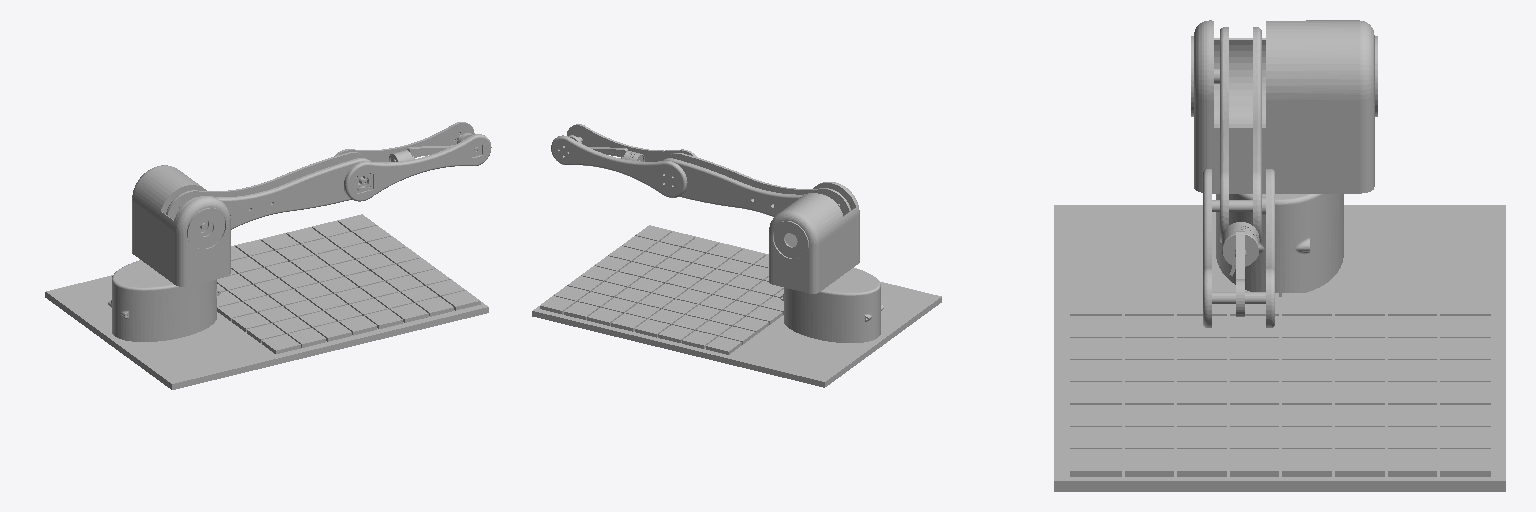
The robot description file, URDF, robot "chess_rob":
<?xml version="1.0" encoding="utf-8" ?>
<robot name="chess_rob">
    <gazebo>
        <plugin name="gazebo_ros_control" filename="libgazebo_ros_control.so">
            <robotNamespace>/chess_rob</robotNamespace>
            <robotSimType>gazebo_ros_control/DefaultRobotHWSim</robotSimType>
            <legacyModeNS>true</legacyModeNS>
        </plugin>
    </gazebo>
    <link name="world" />
    <joint name="joint_w" type="fixed">
        <parent link="world" />
        <child link="base_link" />
    </joint>
    <link name="base_link">
        <inertial>
            <origin xyz="-0.015217243894891 1.33674799181194E-08 0.0349095660299761" rpy="0 0 0" />
            <mass value="0.242925533930054" />
            <inertia ixx="0.000184514361836117" ixy="-6.56879521762788E-08" ixz="-8.40471453675092E-06" iyy="0.000308044865573332" iyz="7.17644794224948E-12" izz="0.000348230702382964" />
        </inertial>
        <visual>
            <origin xyz="0 0 0" rpy="0 0 0" />
            <geometry>
                <mesh filename="package://chess_rob/meshes/visual/base_link.STL" />
            </geometry>
            <material name="">
                <color rgba="0.752941176470588 0.752941176470588 0.752941176470588 1" />
            </material>
        </visual>
        <collision>
            <origin xyz="0 0 0" rpy="0 0 0" />
            <geometry>
                <mesh filename="package://chess_rob/meshes/collision/base_link.STL" />
            </geometry>
        </collision>
    </link>
    <link name="link_1">
        <inertial>
            <origin xyz="-0.000606604801845462 0.000544256660138659 0.0309541889481369" rpy="0 0 0" />
            <mass value="0.165452367760892" />
            <inertia ixx="0.000319019027558372" ixy="-2.56730533017839E-06" ixz="8.60884430980357E-07" iyy="0.000174178835891692" iyz="-7.48100720278735E-06" izz="0.000334430345588851" />
        </inertial>
        <visual>
            <origin xyz="0 0 0" rpy="0 0 0" />
            <geometry>
                <mesh filename="package://chess_rob/meshes/visual/link_1.STL" />
            </geometry>
            <material name="">
                <color rgba="0.752941176470588 0.752941176470588 0.752941176470588 1" />
            </material>
        </visual>
        <collision>
            <origin xyz="0 0 0" rpy="0 0 0" />
            <geometry>
                <mesh filename="package://chess_rob/meshes/collision/link_1.STL" />
            </geometry>
        </collision>
    </link>
    <joint name="joint_1" type="continuous">
        <origin xyz="0 0 0.079" rpy="0 0 0" />
        <parent link="base_link" />
        <child link="link_1" />
        <axis xyz="0 0 -1" />
    </joint>
    <link name="link_2">
        <inertial>
            <origin xyz="-1.69017261852922E-08 -0.000945344060170763 0.103491004754061" rpy="0 0 0" />
            <mass value="0.110239166528901" />
            <inertia ixx="0.000645214897942635" ixy="-2.1691055188587E-12" ixz="-2.08689181194865E-10" iyy="0.000665314861067016" iyz="-1.28048946872329E-06" izz="2.08661229293727E-05" />
        </inertial>
        <visual>
            <origin xyz="0 0 0" rpy="0 0 0" />
            <geometry>
                <mesh filename="package://chess_rob/meshes/visual/link_2.STL" />
            </geometry>
            <material name="">
                <color rgba="0.752941176470588 0.752941176470588 0.752941176470588 1" />
            </material>
        </visual>
        <collision>
            <origin xyz="0 0 0" rpy="0 0 0" />
            <geometry>
                <mesh filename="package://chess_rob/meshes/collision/link_2.STL" />
            </geometry>
        </collision>
    </link>
    <joint name="joint_2" type="continuous">
        <origin xyz="0 -0.026124 0.068999" rpy="0 1.54 0" />
        <parent link="link_1" />
        <child link="link_2" />
        <axis xyz="0 1 0" />
    </joint>
    <link name="link_3">
        <inertial>
            <origin xyz="-3.69654537563102E-07 -0.00028797436439582 0.0692637508407093" rpy="0 0 0" />
            <mass value="0.0586792348761411" />
            <inertia ixx="0.000199414999682554" ixy="3.30496081031023E-10" ixz="1.64091696957926E-12" iyy="0.00020384558759879" iyz="4.75321439278164E-08" izz="6.74770658461029E-06" />
        </inertial>
        <visual>
            <origin xyz="0 0 0" rpy="0 0 0" />
            <geometry>
                <mesh filename="package://chess_rob/meshes/visual/link_3.STL" />
            </geometry>
            <material name="">
                <color rgba="0.752941176470588 0.752941176470588 0.752941176470588 1" />
            </material>
        </visual>
        <collision>
            <origin xyz="0 0 0" rpy="0 0 0" />
            <geometry>
                <mesh filename="package://chess_rob/meshes/collision/link_3.STL" />
            </geometry>
        </collision>
    </link>
    <joint name="joint_3" type="continuous">
        <origin xyz="0 0 0.2195" rpy="0 0 0" />
        <parent link="link_2" />
        <child link="link_3" />
        <axis xyz="0 -1 0" />
    </joint>
    <link name="link_4">
        <inertial>
            <origin xyz="0.000132107659803454 -1.88106667816882E-05 -0.0858466150623816" rpy="0 0 0" />
            <mass value="0.0782399819940314" />
            <inertia ixx="9.53988185360244E-06" ixy="7.41120076252732E-09" ixz="-5.20274626001282E-08" iyy="9.8647213536698E-06" iyz="9.46197536367817E-09" izz="6.12772552030606E-06" />
        </inertial>
        <visual>
            <origin xyz="0 0 0" rpy="0 0 0" />
            <geometry>
                <mesh filename="package://chess_rob/meshes/visual/link_4.STL" />
            </geometry>
            <material name="">
                <color rgba="0.752941176470588 0.752941176470588 0.752941176470588 1" />
            </material>
        </visual>
        <collision>
            <origin xyz="0 0 0" rpy="0 0 0" />
            <geometry>
                <mesh filename="package://chess_rob/meshes/collision/link_4.STL" />
            </geometry>
        </collision>
    </link>
    <joint name="joint_4" type="continuous">
        <origin xyz="0 0 0.155" rpy="0 0 0" />
        <parent link="link_3" />
        <child link="link_4" />
        <axis xyz="0 -1 0" />
    </joint>
    <transmission name="T1">
        <type>transmission_interface/PositionJointInterface</type>
        <joint name="joint_1">
            <hardwareInterface>hardware_interface/PositionJointInterface</hardwareInterface>
        </joint>
        <actuator name="M1">
            <hardwareInterface>hardware_interface/PositionJointInterface</hardwareInterface>
            <mechanicalReduction>1</mechanicalReduction>
        </actuator>
    </transmission>
    <transmission name="T2">
        <type>transmission_interface/PositionJointInterface</type>
        <joint name="joint_2">
            <hardwareInterface>hardware_interface/PositionJointInterface</hardwareInterface>
        </joint>
        <actuator name="M2">
            <hardwareInterface>hardware_interface/PositionJointInterface</hardwareInterface>
            <mechanicalReduction>1</mechanicalReduction>
        </actuator>
    </transmission>
    <transmission name="T3">
        <type>transmission_interface/PositionJointInterface</type>
        <joint name="joint_3">
            <hardwareInterface>hardware_interface/PositionJointInterface</hardwareInterface>
        </joint>
        <actuator name="M3">
            <hardwareInterface>hardware_interface/PositionJointInterface</hardwareInterface>
            <mechanicalReduction>1</mechanicalReduction>
        </actuator>
    </transmission>
    <transmission name="trans_joint_1">
        <type>transmission_interface/SimpleTransmission</type>
        <joint name="joint_1">
            <hardwareInterface>hardware_interface/PositionJointInterface</hardwareInterface>
        </joint>
        <actuator name="joint_1_motor">
            <hardwareInterface>hardware_interface/PositionJointInterface</hardwareInterface>
            <mechanicalReduction>1</mechanicalReduction>
        </actuator>
    </transmission>
    <transmission name="trans_joint_2">
        <type>transmission_interface/SimpleTransmission</type>
        <joint name="joint_2">
            <hardwareInterface>hardware_interface/PositionJointInterface</hardwareInterface>
        </joint>
        <actuator name="joint_2_motor">
            <hardwareInterface>hardware_interface/PositionJointInterface</hardwareInterface>
            <mechanicalReduction>1</mechanicalReduction>
        </actuator>
    </transmission>
    <transmission name="trans_joint_3">
        <type>transmission_interface/SimpleTransmission</type>
        <joint name="joint_3">
            <hardwareInterface>hardware_interface/PositionJointInterface</hardwareInterface>
        </joint>
        <actuator name="joint_3_motor">
            <hardwareInterface>hardware_interface/PositionJointInterface</hardwareInterface>
            <mechanicalReduction>1</mechanicalReduction>
        </actuator>
    </transmission>
    <transmission name="trans_joint_4">
        <type>transmission_interface/SimpleTransmission</type>
        <joint name="joint_4">
            <hardwareInterface>hardware_interface/EffortJointInterface</hardwareInterface>
        </joint>
        <actuator name="joint_4_motor">
            <hardwareInterface>hardware_interface/EffortJointInterface</hardwareInterface>
            <mechanicalReduction>1</mechanicalReduction>
        </actuator>
    </transmission>
</robot>

--- Render facts (derived) ---
3 views of the same robot in one strip: view 1: azimuth 30°, elevation 25°; view 2: azimuth 150°, elevation 25°; view 3: azimuth 270°, elevation 25° (orthographic).
Robot: chess_rob — 6 links, 5 joints (4 continuous, 1 fixed); root link world; default pose: every joint at zero.
Links seen in each view (by area): view 1: base_link, link_1, link_2, link_3; view 2: base_link, link_1, link_2, link_3; view 3: base_link, link_1, link_3, link_2, link_4.
Boxes of the visible links, left/top/right/bottom form: base_link: left=45, top=214, right=488, bottom=389; link_1: left=132, top=165, right=230, bottom=286; link_2: left=166, top=152, right=370, bottom=232; link_3: left=335, top=122, right=491, bottom=201; base_link: left=532, top=225, right=941, bottom=387; link_1: left=769, top=182, right=859, bottom=293; link_2: left=663, top=153, right=850, bottom=216; link_3: left=551, top=124, right=697, bottom=197; base_link: left=1054, top=194, right=1505, bottom=491; link_1: left=1191, top=20, right=1377, bottom=193; link_3: left=1203, top=169, right=1274, bottom=327; link_2: left=1214, top=27, right=1261, bottom=242; link_4: left=1222, top=222, right=1259, bottom=316.
Bounding box of the posed robot: 0.6444 × 0.3 × 0.187 m (x, y, z).
Meshes: 5 distinct files referenced, 5 mesh visuals loaded (5 binary STL).